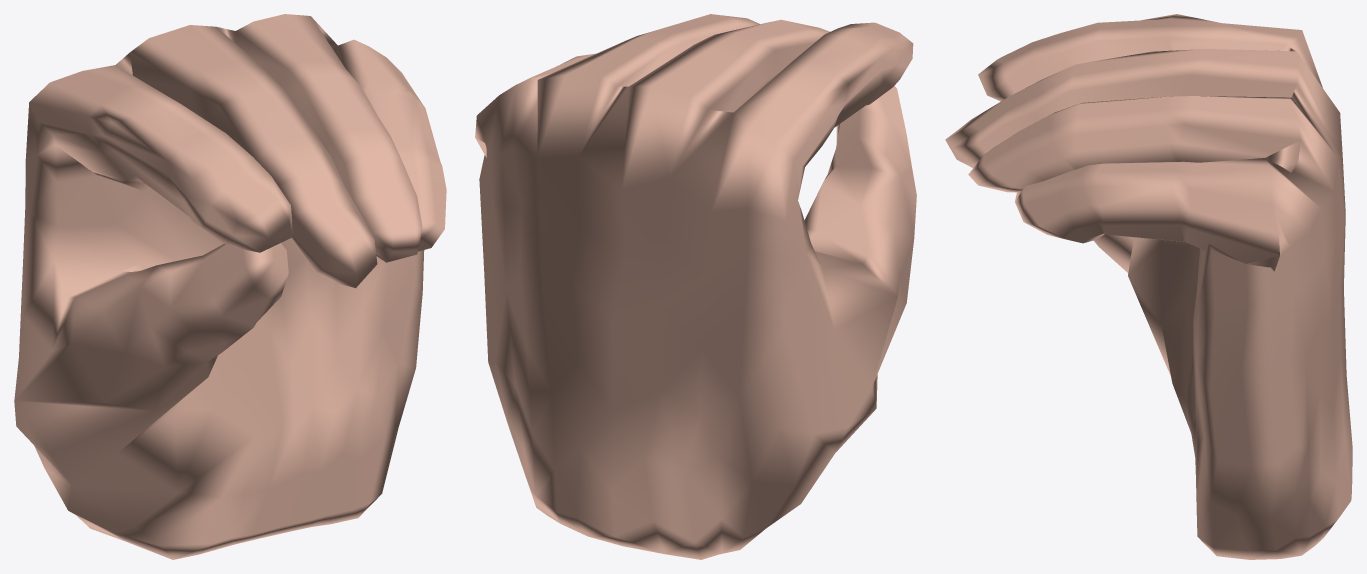
File: ANGULO_FECHADO.obj
3 renders of one model, left to right at view 1: azimuth 30°, elevation 25°; view 2: azimuth 150°, elevation 25°; view 3: azimuth 270°, elevation 25°, orthographic. The views are drawn at different scales.
Visible parts, largest first — view 1: mao_dir polySurface1; view 2: mao_dir polySurface1; view 3: mao_dir polySurface1.
Boxes of the visible parts, left/top/right/bottom form: mao_dir polySurface1: left=14, top=14, right=446, bottom=559; mao_dir polySurface1: left=475, top=14, right=916, bottom=559; mao_dir polySurface1: left=945, top=14, right=1352, bottom=559.
Size of the model in its own units: 130 by 149 by 125.
